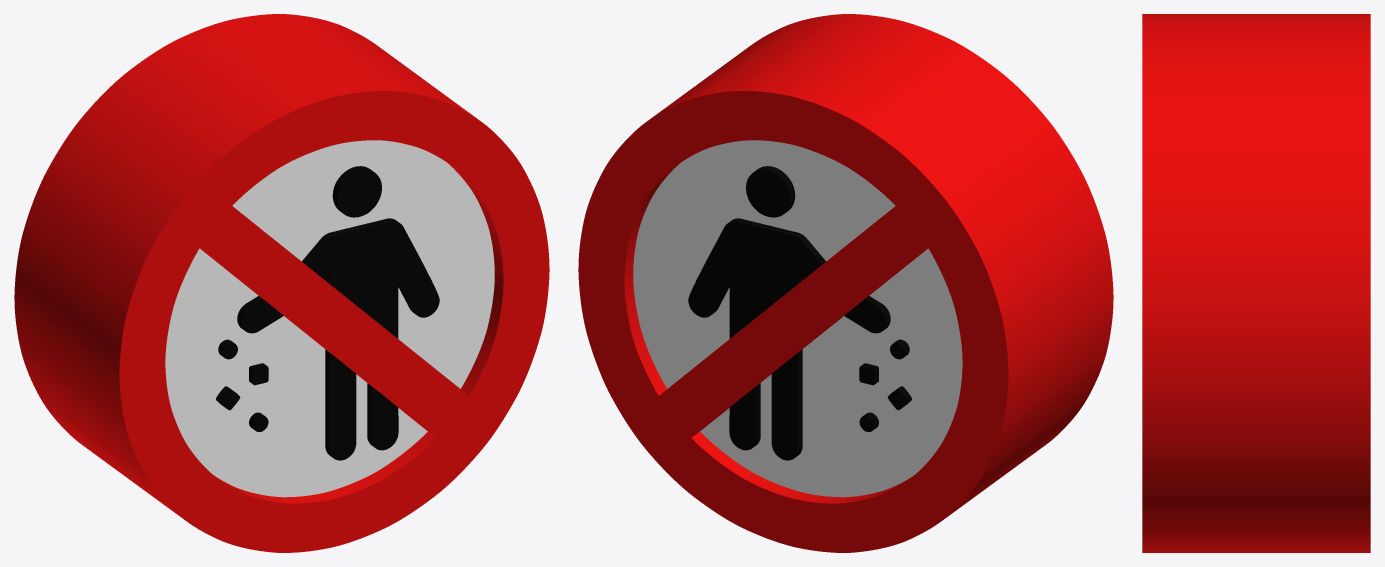
The picture shows the model from 3 angles, left to right: view 1: azimuth 30°, elevation 25°; view 2: azimuth 150°, elevation 25°; view 3: azimuth 270°, elevation 25°; orthographic projection. The views are drawn at different scales.
Parts seen in each view (by area): view 1: U+1F6AF_layer02_obj00, U+1F6AF_layer00_obj00, U+1F6AF_layer01_obj00; view 2: U+1F6AF_layer02_obj00, U+1F6AF_layer00_obj00, U+1F6AF_layer01_obj00; view 3: U+1F6AF_layer02_obj00.
Boxes of the visible parts, bbox=[...] form: U+1F6AF_layer02_obj00: bbox=[14, 14, 549, 552]; U+1F6AF_layer00_obj00: bbox=[165, 140, 494, 497]; U+1F6AF_layer01_obj00: bbox=[216, 166, 439, 460]; U+1F6AF_layer02_obj00: bbox=[578, 14, 1113, 552]; U+1F6AF_layer00_obj00: bbox=[633, 140, 962, 497]; U+1F6AF_layer01_obj00: bbox=[688, 166, 911, 460]; U+1F6AF_layer02_obj00: bbox=[1142, 14, 1370, 552].
Size of the model in its own units: 0.5678 by 0.5677 by 0.24.
